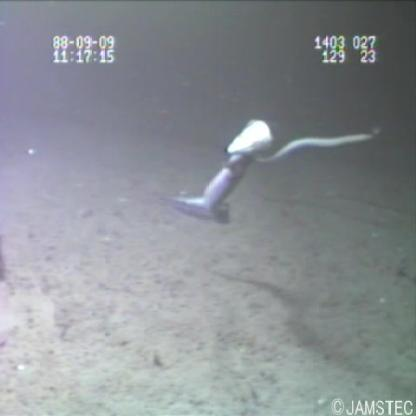Bio: (160, 114, 276, 233), (243, 111, 390, 185)
